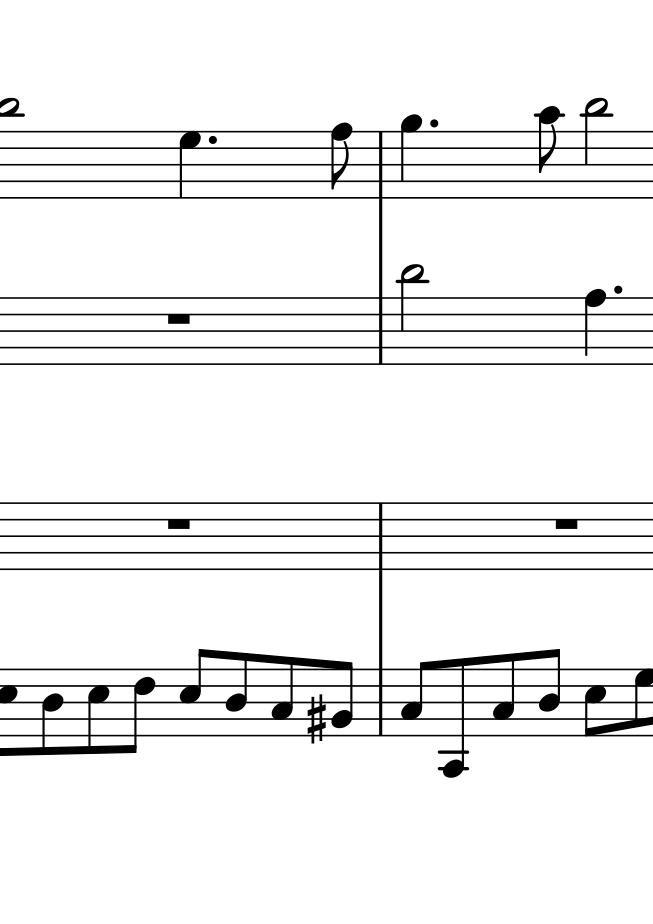2_11: (583, 97, 611, 201), (398, 263, 425, 367)
4_7: (178, 130, 203, 201)
4_8: (583, 288, 608, 369)
4_9: (399, 113, 424, 199)
8_-4: (442, 658, 468, 778)
8_10: (537, 105, 561, 200)
8_2: (332, 659, 357, 738)
8_3: (400, 661, 430, 738), (492, 653, 517, 738), (271, 656, 296, 739)
8_4: (539, 649, 563, 738), (225, 650, 249, 738), (41, 666, 63, 760)
8_5: (177, 647, 210, 739), (85, 667, 108, 757), (585, 667, 605, 740)
8_6: (126, 666, 158, 756)
8_7: (633, 669, 653, 738)
8_8: (330, 122, 354, 200)
Rests1: (163, 307, 194, 327), (162, 514, 195, 532), (552, 514, 583, 533)
Sharp: (306, 694, 327, 746)
Single_barline: (373, 132, 391, 199), (373, 298, 390, 365), (373, 663, 387, 739), (374, 501, 388, 572)
dot: (426, 115, 442, 135), (610, 282, 626, 300), (205, 131, 220, 150), (427, 115, 442, 133), (610, 283, 625, 297), (206, 133, 219, 146)
